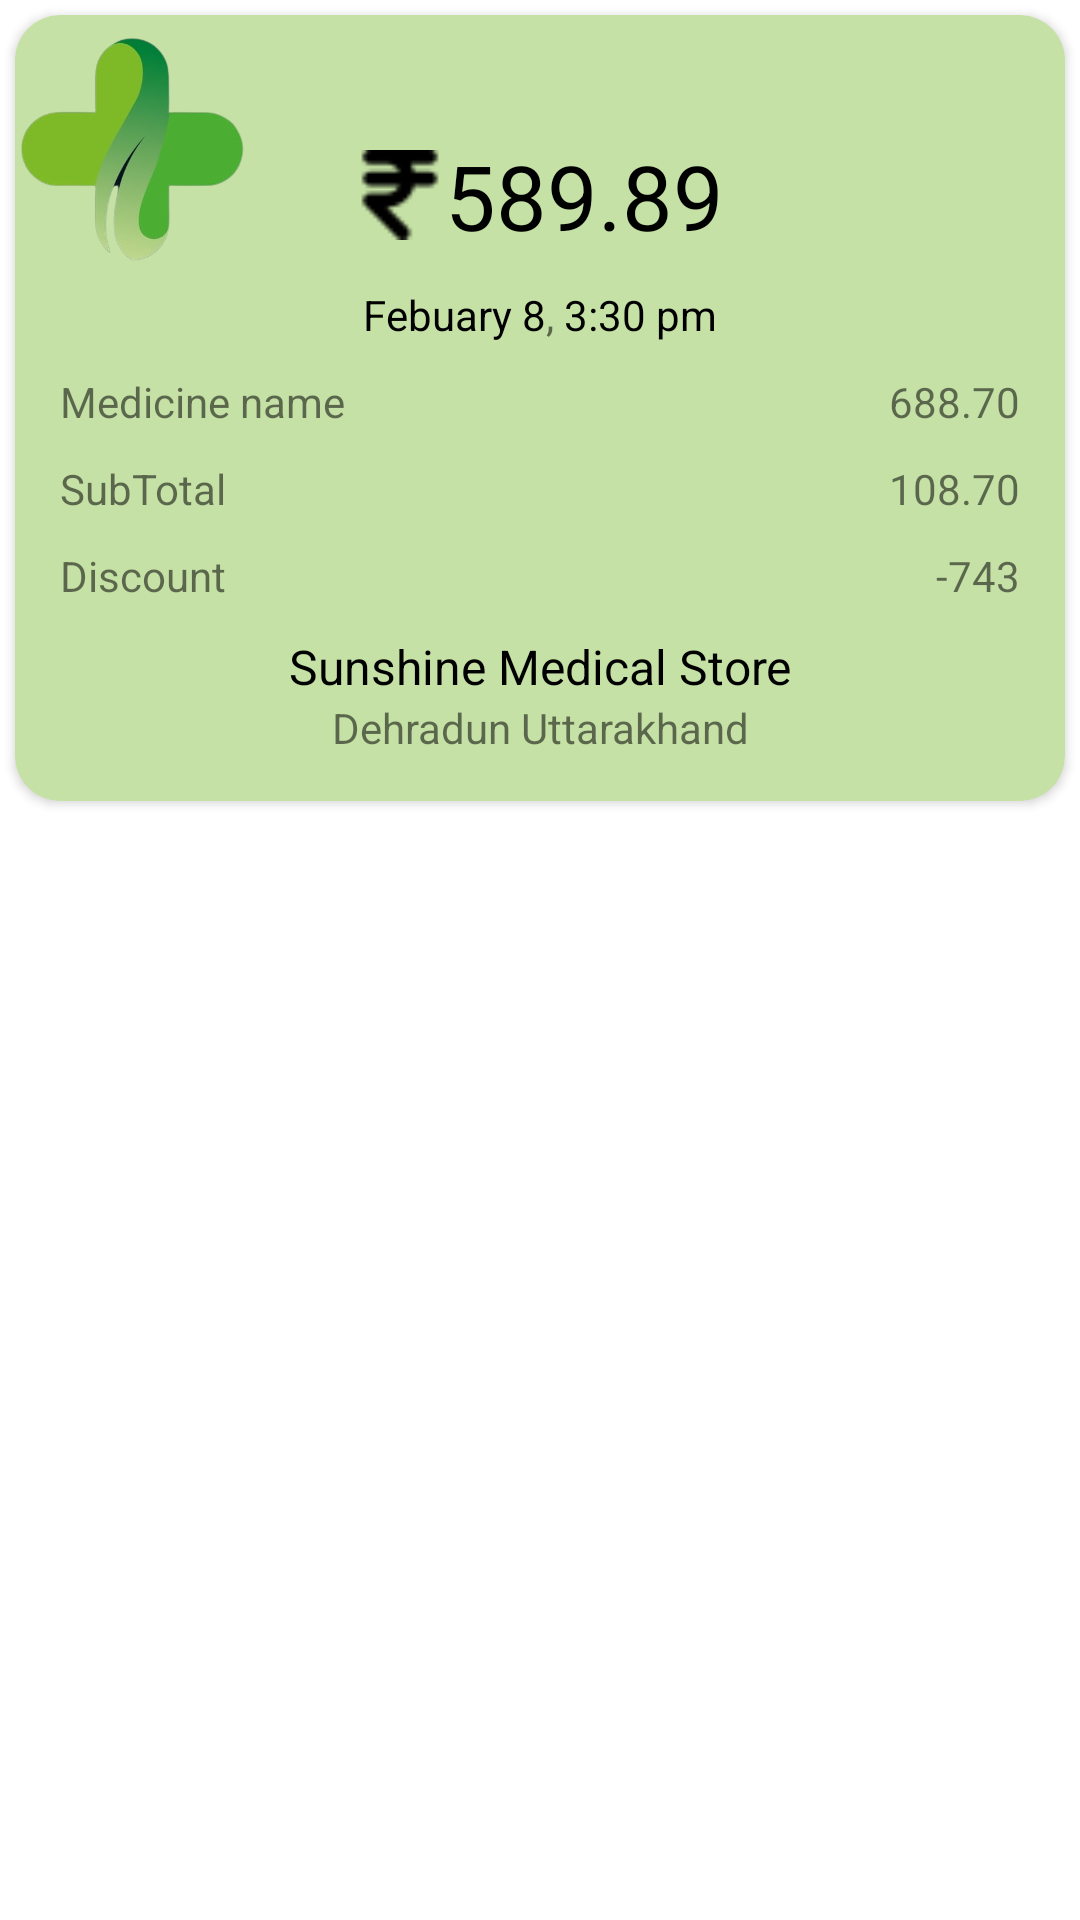

Named icons in this screenshot (1080×1920) and their bounding boxes, box(x1, y1, x2, y2):
appicon: box(21, 38, 243, 260)
rupee: box(361, 150, 439, 240)
